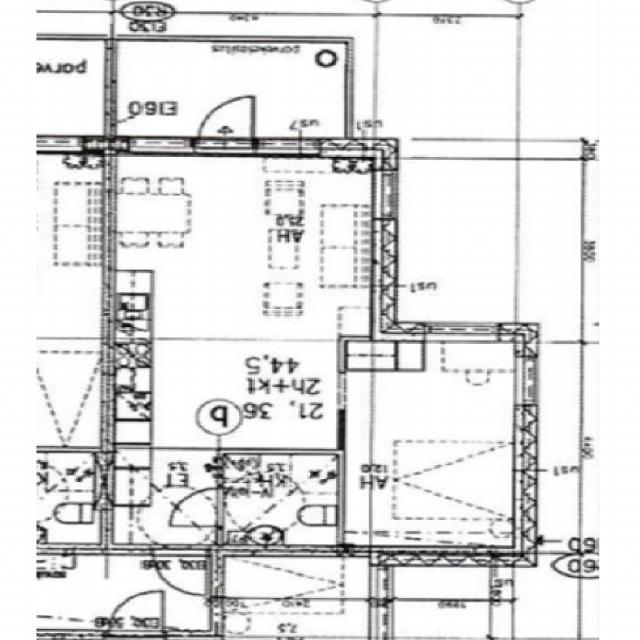door: (200, 94, 254, 154), (154, 546, 207, 599), (171, 488, 224, 528)
